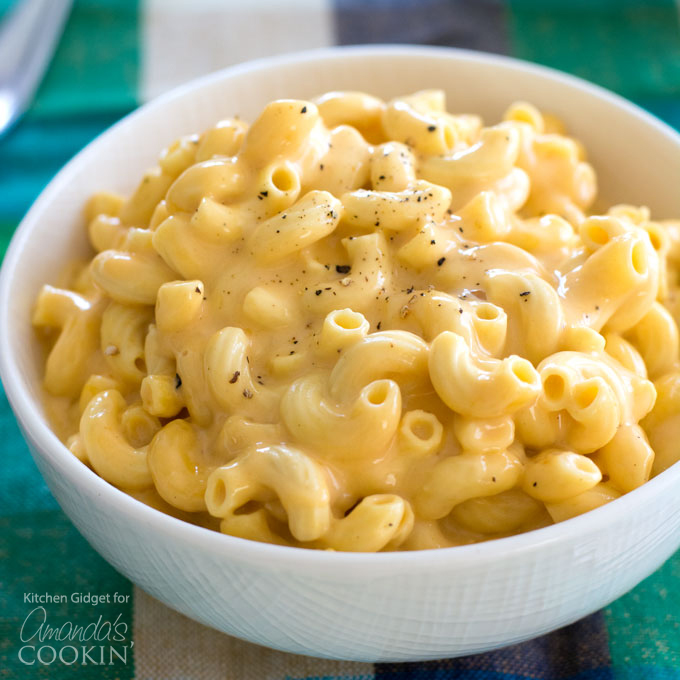macncheese: (76, 89, 653, 537)
